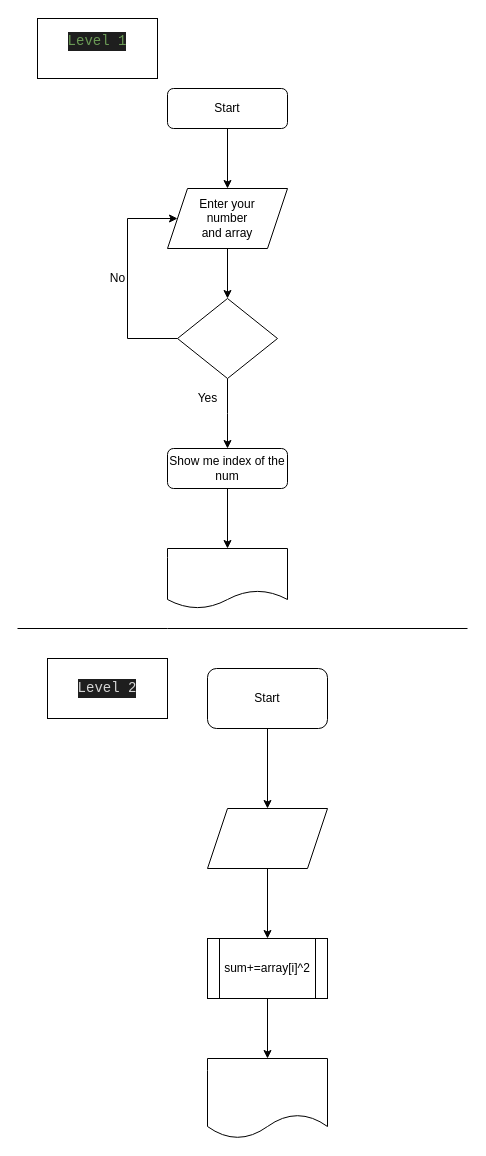
Some shapes in this 486 by 1156 pixel diagram are drawn without their labels. The shapes that lost their labels are listed below. From the top down, each one's centre as x and y in pixels, then its label:
pixel 227 338: the num is in the array
pixel 227 578: End
pixel 267 838: Enter your array
